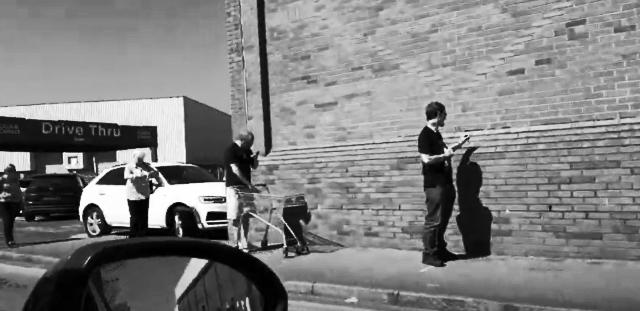berdiri: (418, 96, 468, 268), (220, 119, 260, 252)
